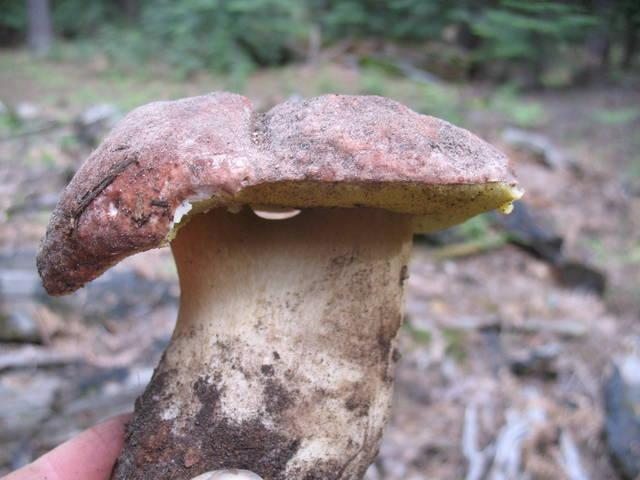edible_mushroom: (34, 88, 525, 479)
